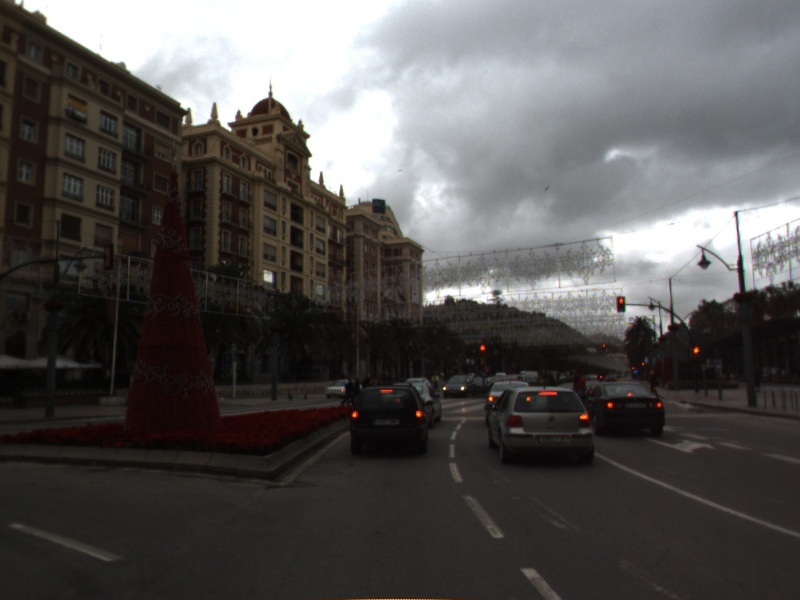STRAIGHT_RIGHT: (641, 434, 719, 456)
